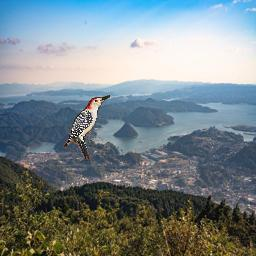Woodpecker: (63, 95, 110, 162)
